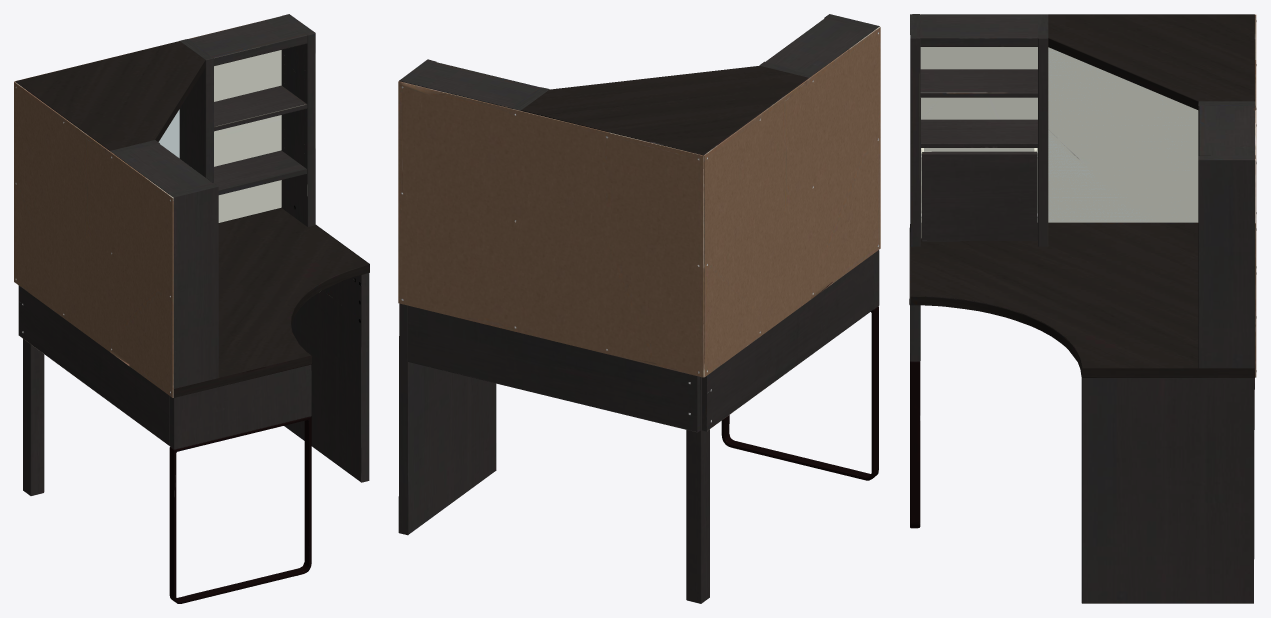
Rendered from MICKE corner work station.glb.
The picture shows the model from 3 angles, left to right: view 1: azimuth 30°, elevation 25°; view 2: azimuth 150°, elevation 25°; view 3: azimuth 270°, elevation 25°; orthographic projection. The views are drawn at different scales.
Visible parts, largest first — view 1: 50244741-MICKE001; view 2: 50244741-MICKE001; view 3: 50244741-MICKE001.
Boxes of the visible parts, <box> form: 50244741-MICKE001: <box>14,14,369,603</box>; 50244741-MICKE001: <box>398,14,880,603</box>; 50244741-MICKE001: <box>909,14,1256,603</box>.
Size of the model in its own units: 0.9989 by 1.41 by 0.9989.
1 material, 1 textured.
